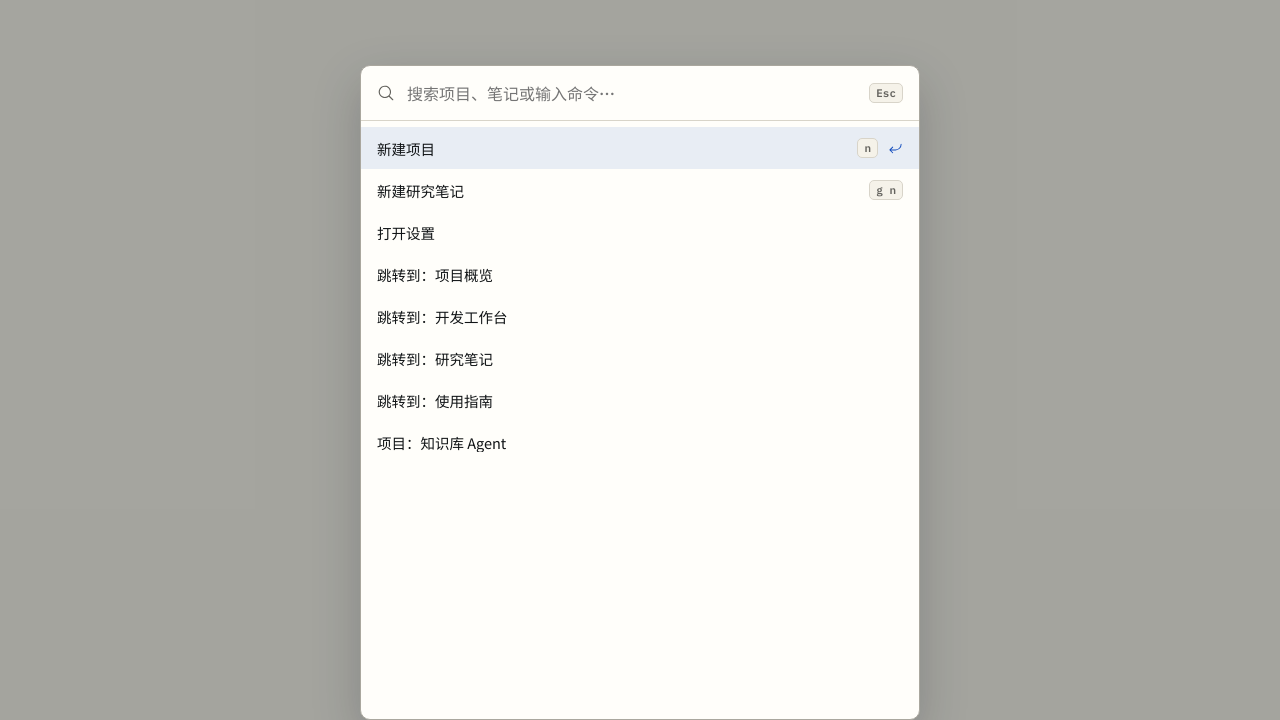
Test case: CommandPalette 命令面板 › 无匹配命令时显示空状态
This screenshot has width=1280, height=720.
Step 1. Type "zzz不存在的命令" into the search field named "命令面板搜索" → (632, 93), box [405,80,859,106]
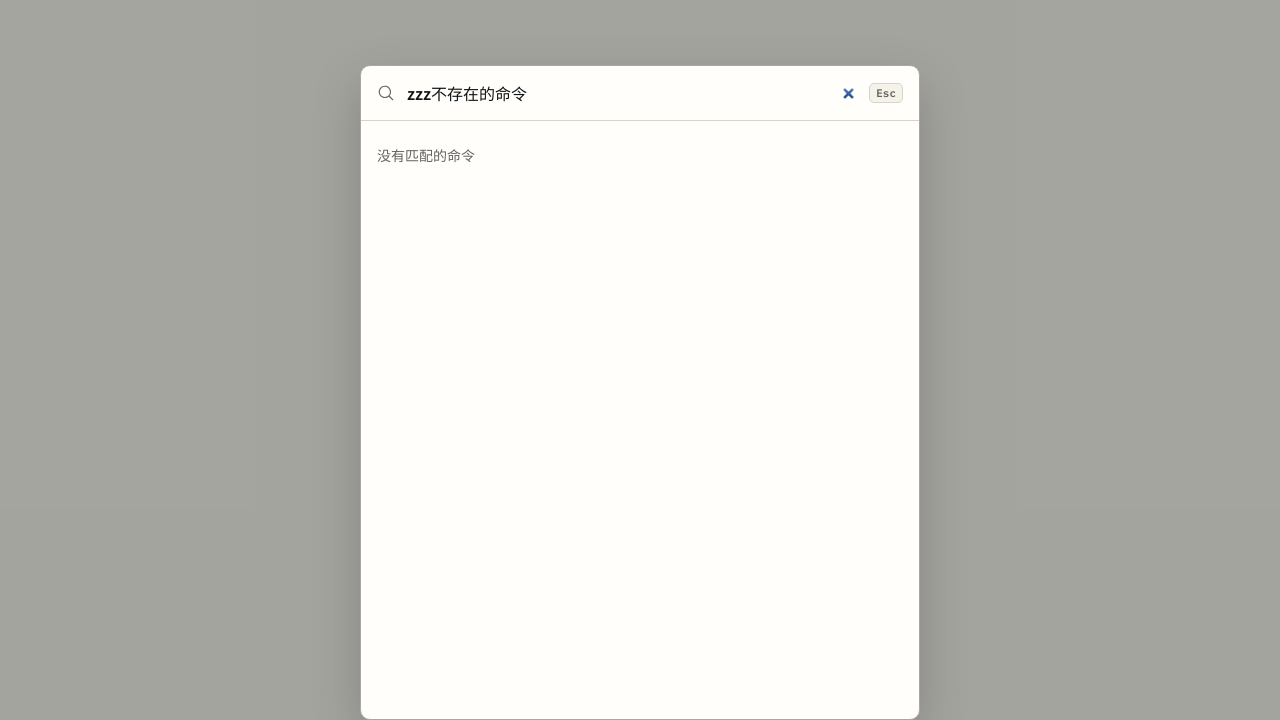
Expected: the list item "没有匹配的命令" is shown, [377,145,475,165]
